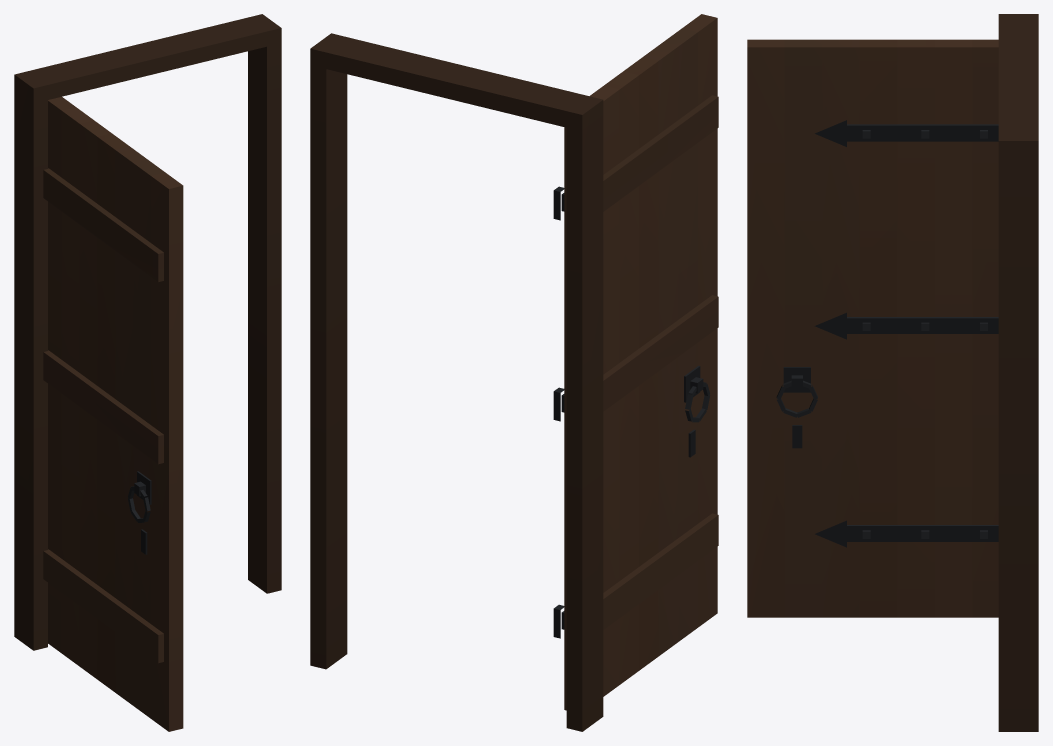
File: door.oak_slim_open.dark.glb
3 views of the same model, side by side, from view 1: azimuth 30°, elevation 25°; view 2: azimuth 150°, elevation 25°; view 3: azimuth 270°, elevation 25° (orthographic). The views are drawn at different scales.
Parts seen in each view (by area): view 1: door_oak_slim_open_dark; view 2: door_oak_slim_open_dark; view 3: door_oak_slim_open_dark.
Part boxes in pixels (x1,y1,x2,y2): door_oak_slim_open_dark: [14, 14, 281, 731]; door_oak_slim_open_dark: [310, 14, 718, 731]; door_oak_slim_open_dark: [747, 14, 1038, 731].
Size of what is drawn, in the model's own units: 1.2 by 2.6 by 1.16.
